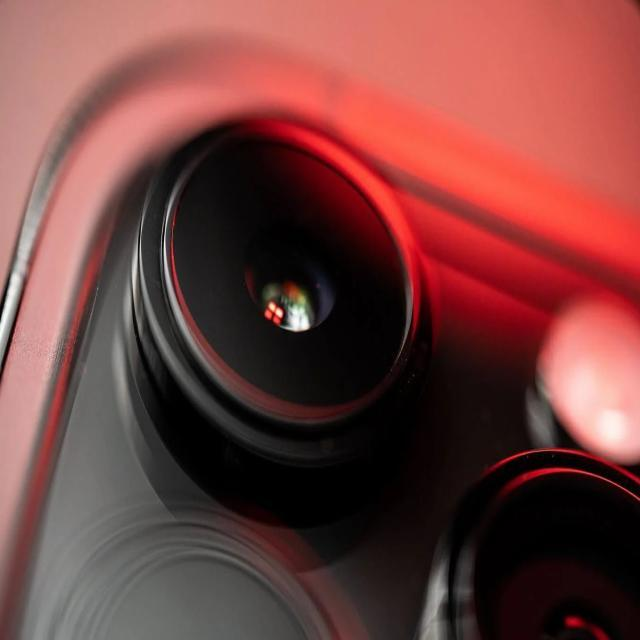hidden camera: (148, 109, 437, 480)
